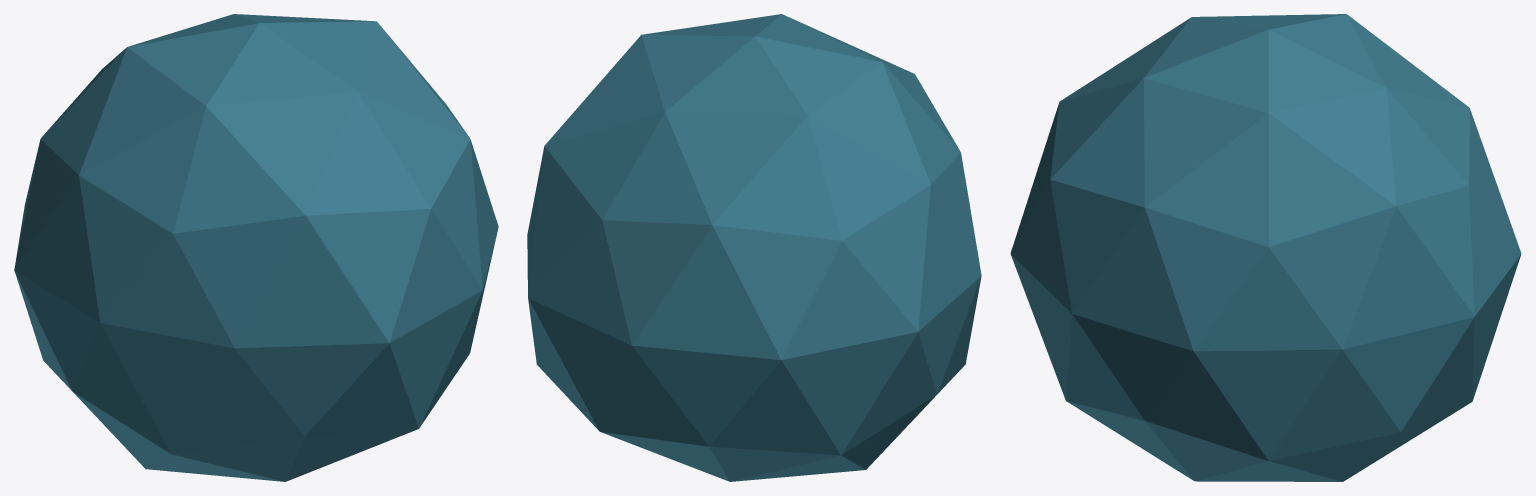
File: Planet_Earth.glb
The picture shows the model from 3 angles, left to right: view 1: azimuth 30°, elevation 25°; view 2: azimuth 150°, elevation 25°; view 3: azimuth 270°, elevation 25°; orthographic projection. The views are drawn at different scales.
Parts seen in each view (by area): view 1: Planet_Earth; view 2: Planet_Earth; view 3: Planet_Earth.
Part boxes in pixels (x1,y1,x2,y2): Planet_Earth: (14, 14, 498, 481); Planet_Earth: (527, 14, 981, 481); Planet_Earth: (1010, 14, 1521, 481).
Bounding box in the file's own units: 1.9 × 2.01 × 2.07.
